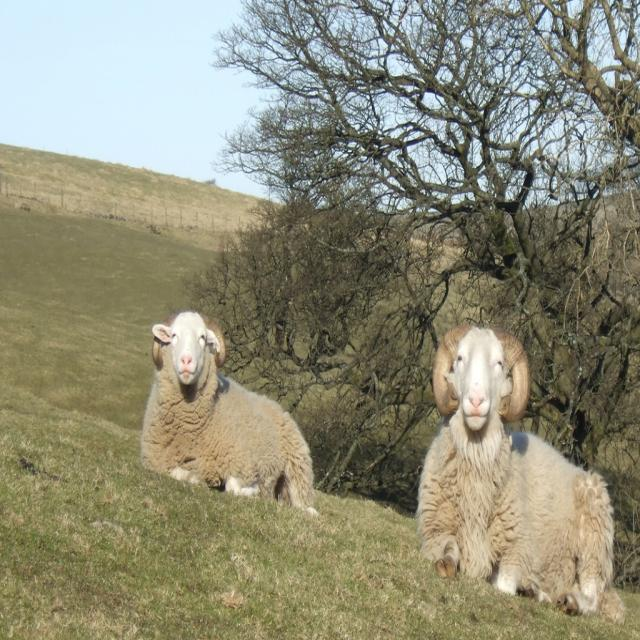Sheep: (413, 325, 626, 626), (146, 319, 328, 521)
